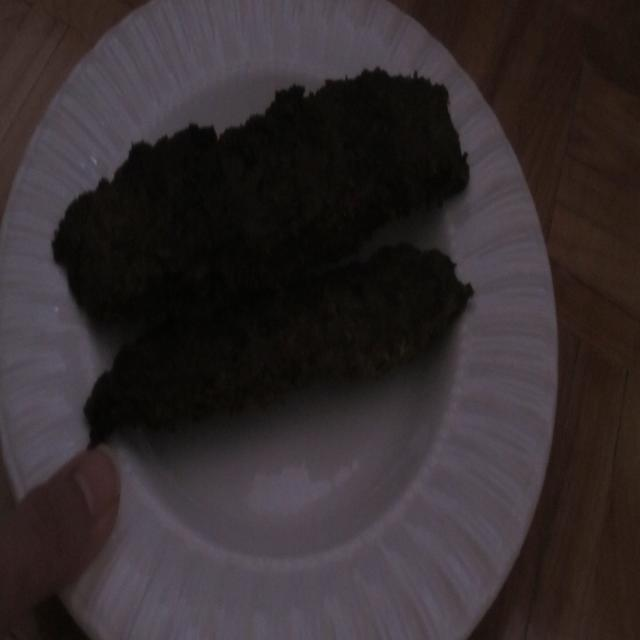cutlet: (37, 52, 525, 451)
